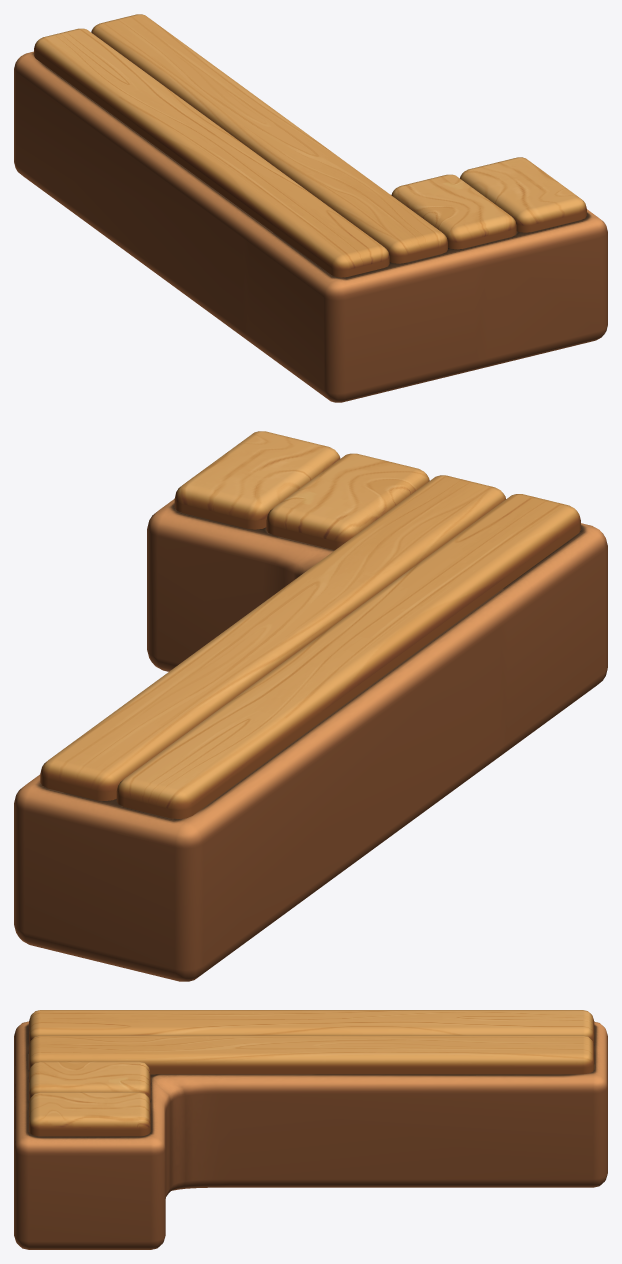
File: WoodenBox_L_2x4.fbx
3 views of the same model, one above another, from view 1: azimuth 30°, elevation 25°; view 2: azimuth 150°, elevation 25°; view 3: azimuth 270°, elevation 25° (orthographic). The views are drawn at different scales.
Parts seen in each view (by area): view 1: boxL_2x4; view 2: boxL_2x4; view 3: boxL_2x4.
Boxes of the visible parts, <box> form: boxL_2x4: <box>14,14,607,402</box>; boxL_2x4: <box>14,431,607,981</box>; boxL_2x4: <box>14,1010,607,1249</box>.
Size of the model in its own units: 2.03 by 0.961 by 4.03.
